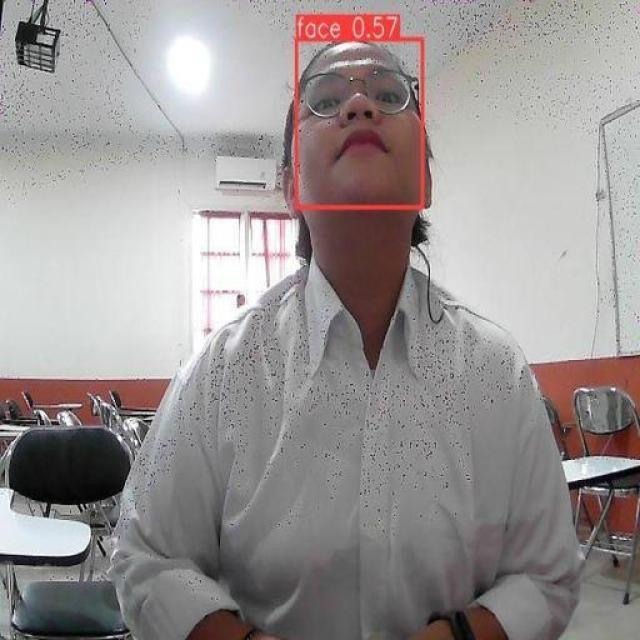bareface: (298, 34, 423, 240)
